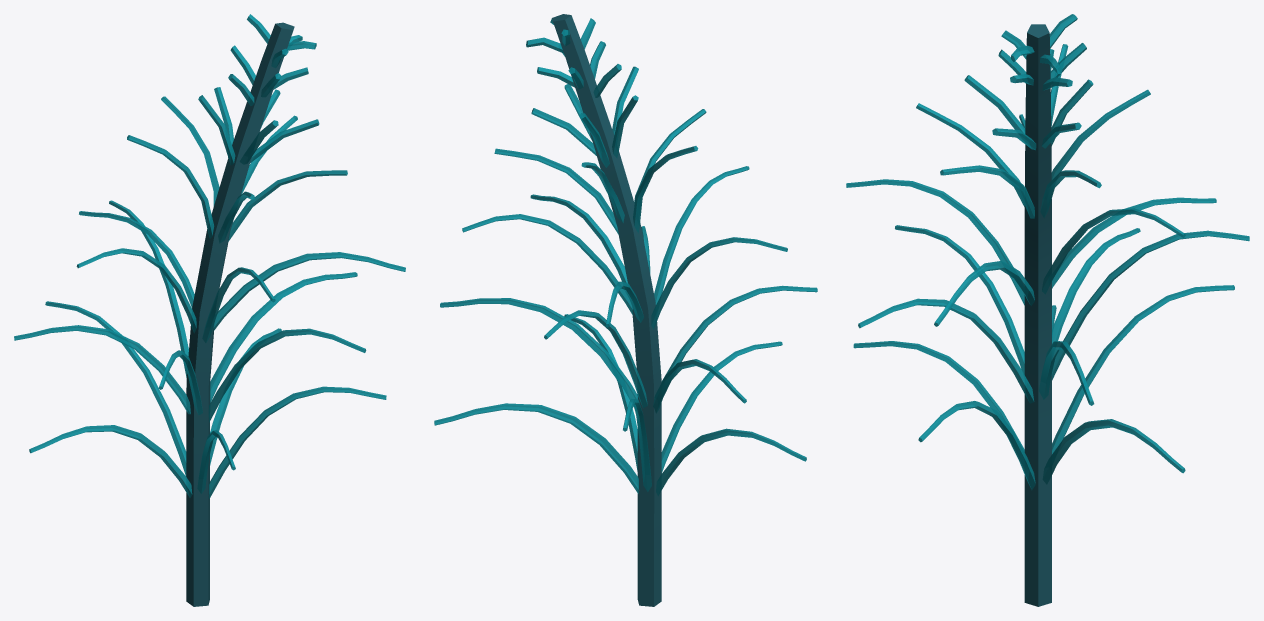
File: sticky.fbx
3 renders of one model, left to right at view 1: azimuth 30°, elevation 25°; view 2: azimuth 150°, elevation 25°; view 3: azimuth 270°, elevation 25°, orthographic. The views are drawn at different scales.
Parts seen in each view (by area): view 1: sticky; view 2: sticky; view 3: sticky.
Boxes of the visible parts, x1=… form: sticky: x1=14, y1=14, x2=405, y2=606; sticky: x1=434, y1=14, x2=817, y2=606; sticky: x1=846, y1=14, x2=1249, y2=606.
Size of the model in its own units: 130 by 202 by 118.
